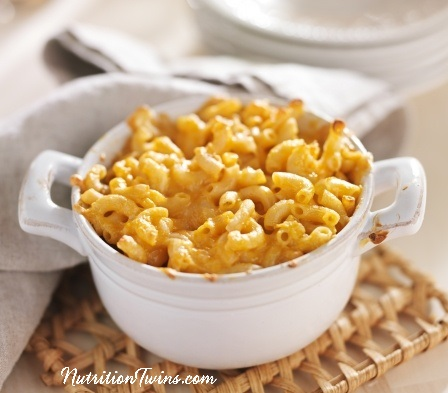macncheese: (78, 91, 369, 272)
